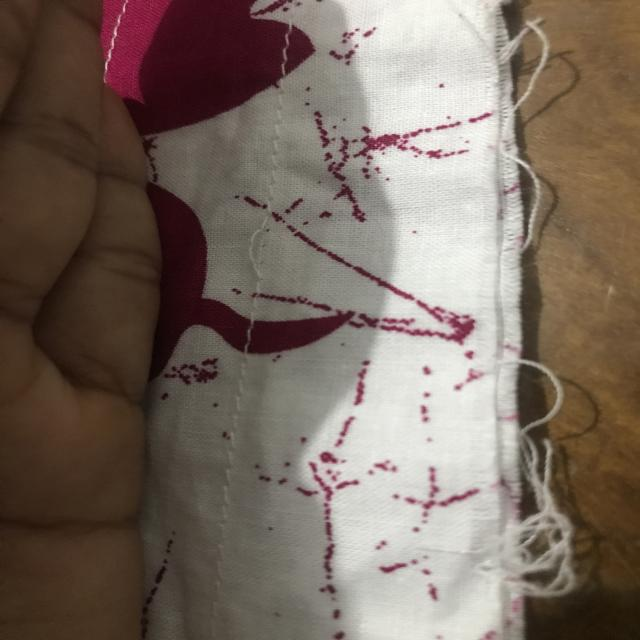skip: (240, 202, 284, 302)
